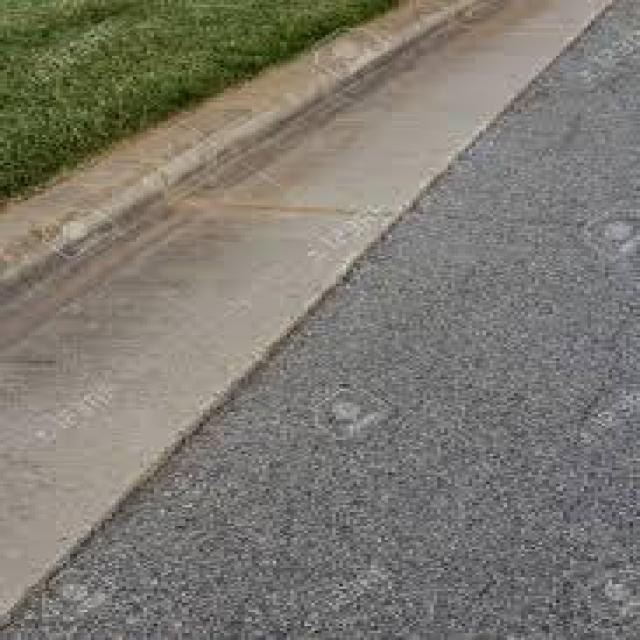curb: (5, 157, 399, 636), (98, 9, 595, 213)
